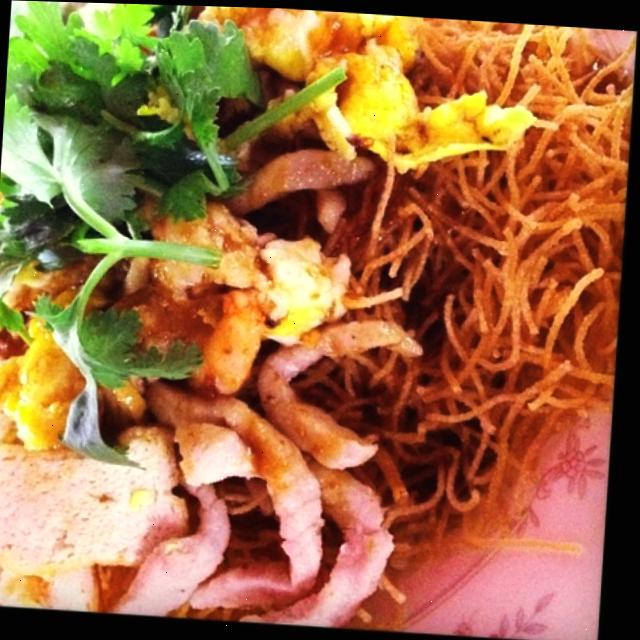面条主食: (0, 0, 624, 617)
